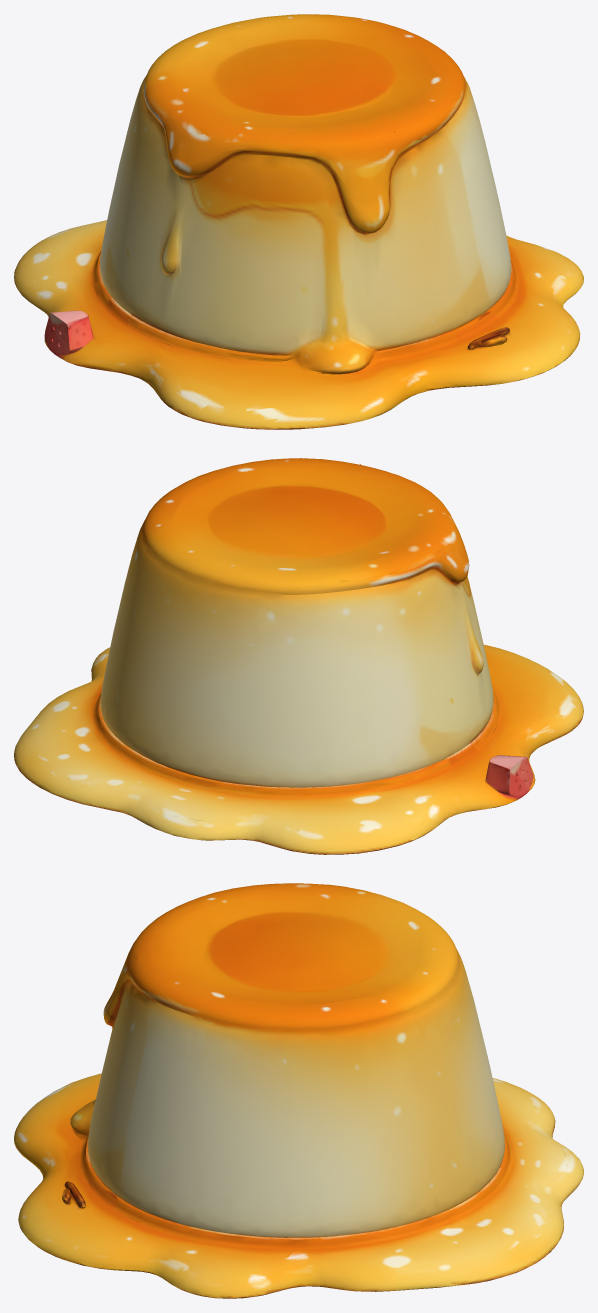
File: Web_Pudding_Plain.fbx
3 views of the same model, one above another, from view 1: azimuth 30°, elevation 25°; view 2: azimuth 150°, elevation 25°; view 3: azimuth 270°, elevation 25° (orthographic). The views are drawn at different scales.
Visible parts, largest first — view 1: node_0; view 2: node_0; view 3: node_0.
Boxes of the visible parts, x1,y1,x2,y2 form: node_0: (14, 14, 583, 429); node_0: (14, 458, 583, 854); node_0: (14, 883, 583, 1298).
Bounding box in the file's own units: 101 × 46.24 × 101.
1 material, 1 textured.
